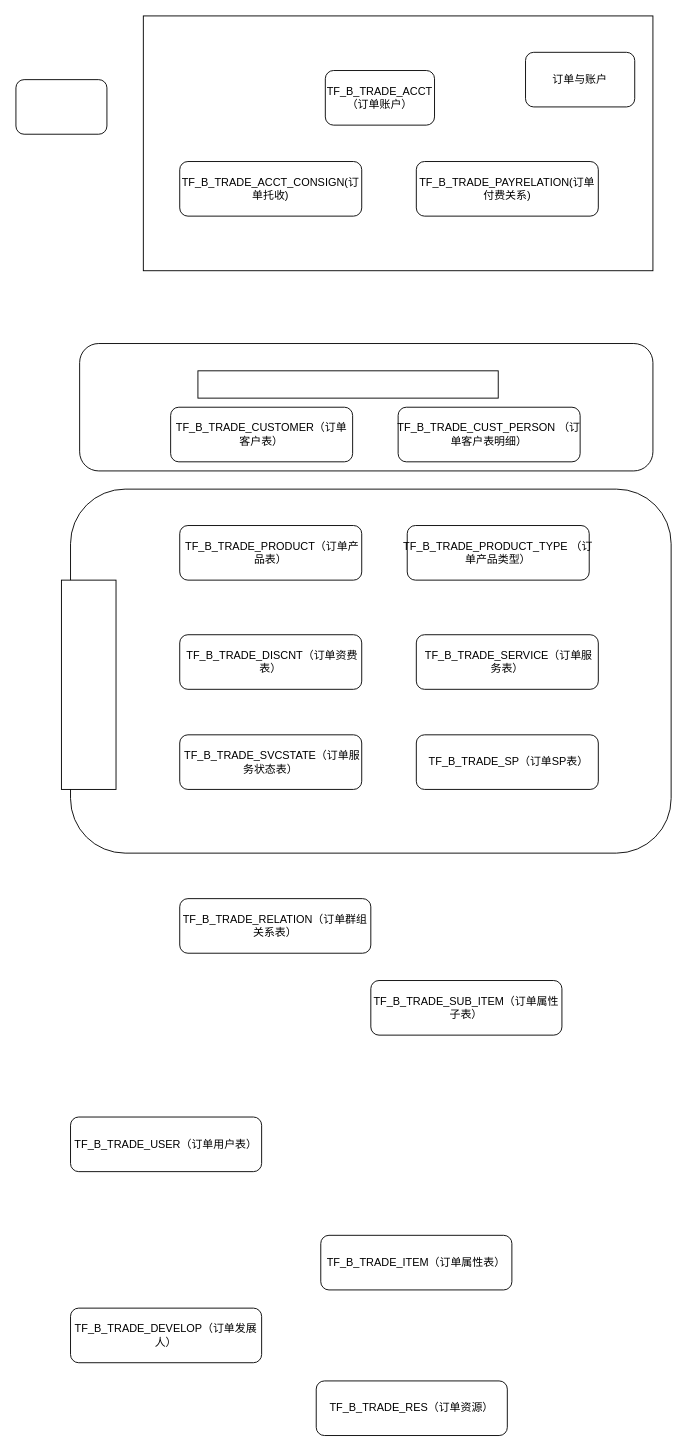
The diagram is 687 pixels wide and 1451 high, and some of its shapes have lost their labels. Here are the shapes that lost their labels. From the top down, the centre of each, then its label:
At pixel 61 106: "TD_B_TRADE（订单台账）".
At pixel 347 384: "订单与客户之间的关系表".
At pixel 88 684: "订单与产品关系".
